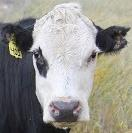muzzles: (43, 98, 90, 129)
